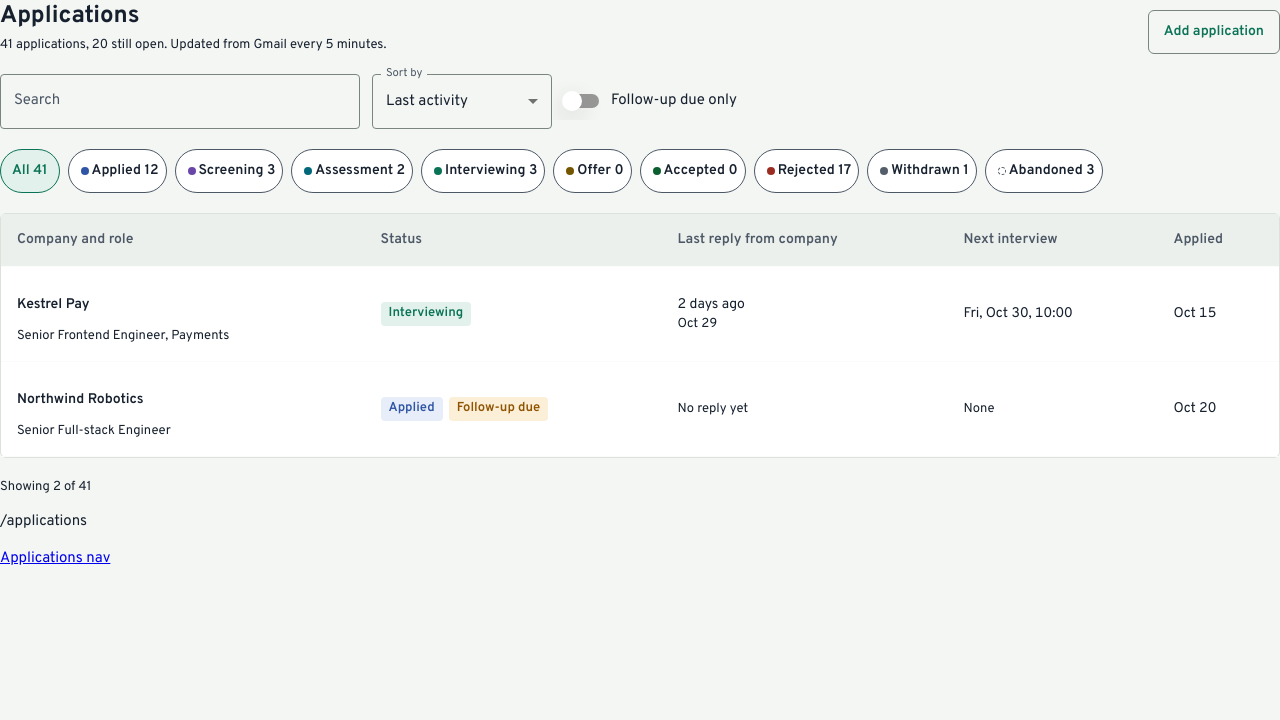
Test: ApplicationsPage › the Add application dialog is full screen on a phone
Check: the link "Kestrel Pay" is shown, box [17,296,90,313]
Click the button "Add application": point(1214, 32) [1148,10,1279,54]
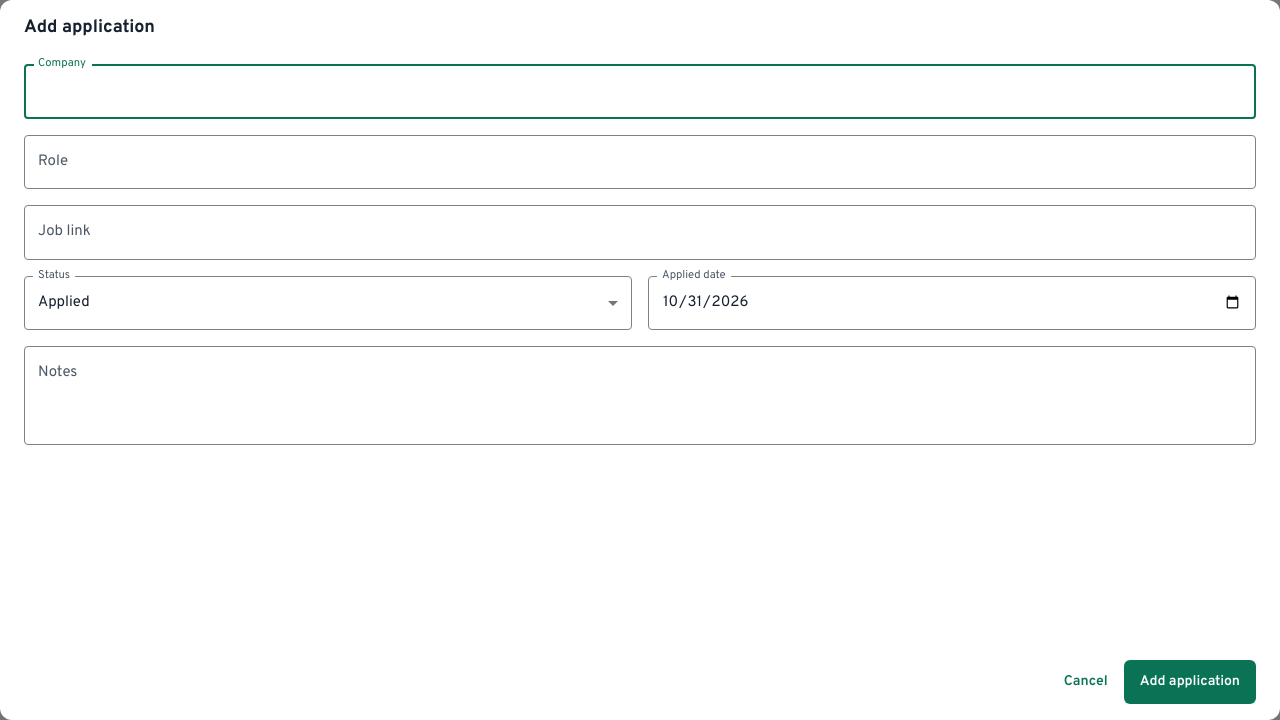
Check: the dialog named "Add application" is shown
